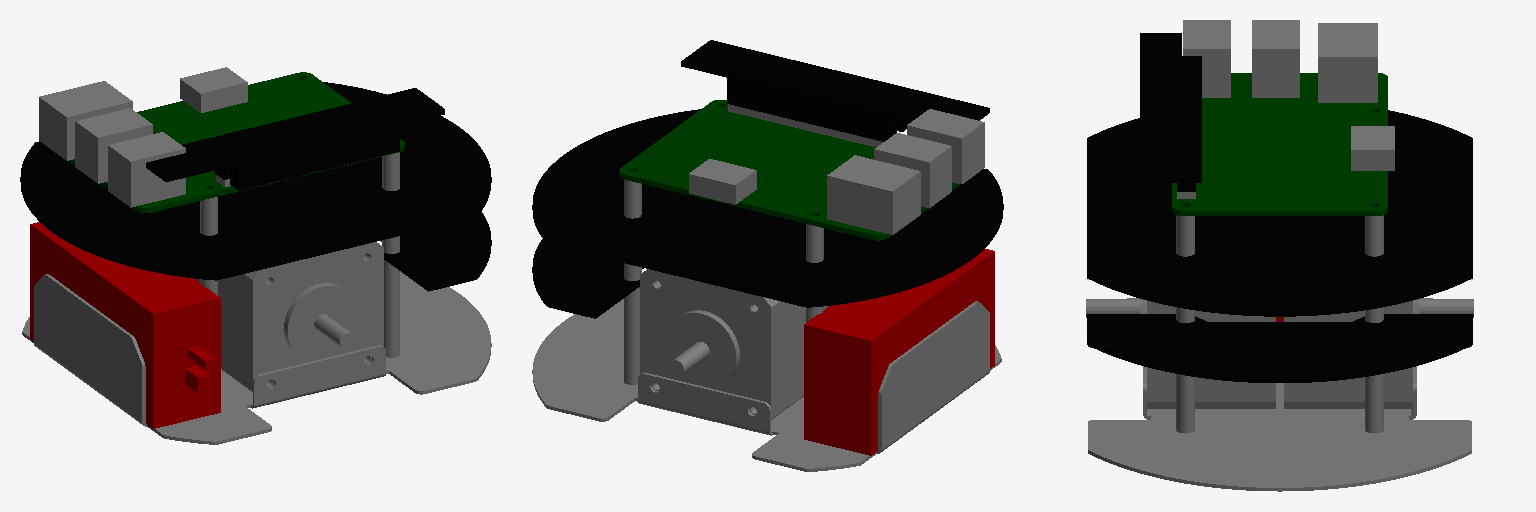
URDF robot description (raspimouse):
<?xml version="1.0"?>
<robot name="raspimouse">
  <link name="base_footprint" />

  <joint name="base_joint" type="fixed">
    <origin xyz="0 0 0.00185" />
    <parent link="base_footprint" />
    <child link="base_link" />
  </joint>

  <link name="base_link">
     <visual>
      <geometry>
        <mesh filename="package://raspimouse_description/meshes/dae/body/RasPiMouse_body.dae" />
      </geometry>
    </visual>
  </link>

  <joint name="left_wheel_joint" type="continuous">
    <origin xyz="0 0.0425 0.02215" rpy="-1.57 0 0" />
    <axis xyz="0 0 1" />
    <parent link="base_link" />
    <child link="left_wheel" />
  </joint>
  
  <link name="left_wheel">
     <visual>
      <geometry>
        <mesh filename="package://raspimouse_description/meshes/dae/wheel/RasPiMouse_wheel.dae" />
      </geometry>
    </visual>
  </link>
  
  <joint name="right_wheel_joint" type="continuous">
    <origin xyz="0 -0.0425 0.02215" rpy="1.57 0 0" />
    <axis xyz="0 0 1" />
    <parent link="base_link" />
    <child link="right_wheel" />
  </joint>
  
  <link name="right_wheel">
     <visual>
      <geometry>
        <mesh filename="package://raspimouse_description/meshes/dae/wheel/RasPiMouse_wheel.dae" />
      </geometry>
    </visual>
  </link>
</robot>

--- What the picture shows (computed from the rendered views, not written in the file) ---
The picture shows the robot from 3 angles, left to right: view 1: azimuth 30°, elevation 25°; view 2: azimuth 150°, elevation 25°; view 3: azimuth 270°, elevation 25°; orthographic projection.
Model raspimouse with 4 links and 3 joints (2 continuous, 1 fixed), rooted at base_footprint, posed every joint at zero.
Links seen in each view (by area): view 1: base_link; view 2: base_link; view 3: base_link.
Boxes of the visible links, x1,y1,x2,y2 form: base_link: (20,67,491,444); base_link: (532,40,1003,471); base_link: (1086,20,1473,491).
Size in the robot's own frame: 0.13 by 0.101 by 0.0793 metres.
Meshes: 2 distinct files referenced, 1 mesh visuals loaded (1 Collada DAE); not drawn: 2 (reference not matched to a file when rendering).